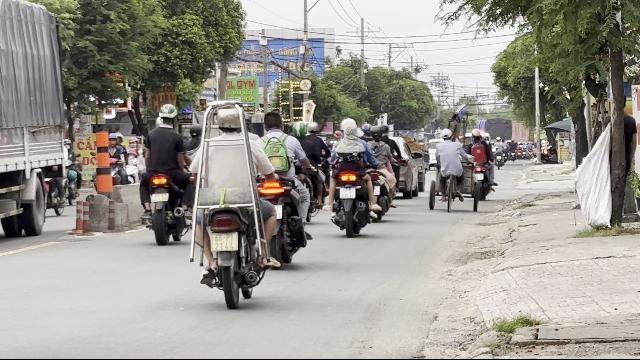helmet: (215, 100, 245, 138), (156, 103, 178, 126), (340, 122, 358, 139), (339, 118, 356, 132)
licenseplate: (212, 232, 238, 252), (151, 193, 169, 202), (340, 188, 354, 198)
motorcyclist: (184, 95, 274, 305), (260, 110, 312, 266), (136, 102, 192, 244), (328, 116, 377, 236)
nohelmet: (262, 112, 284, 132)
